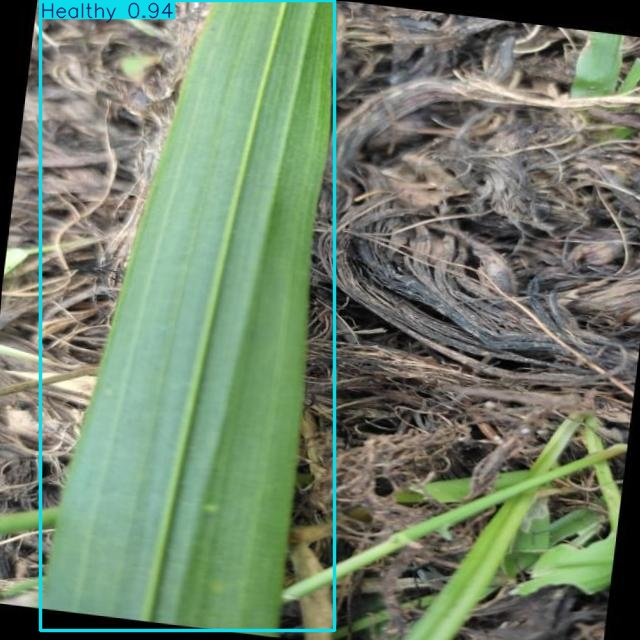Healthy: (41, 0, 335, 631)
